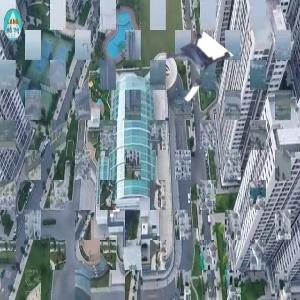drone: (152, 28, 222, 98)
